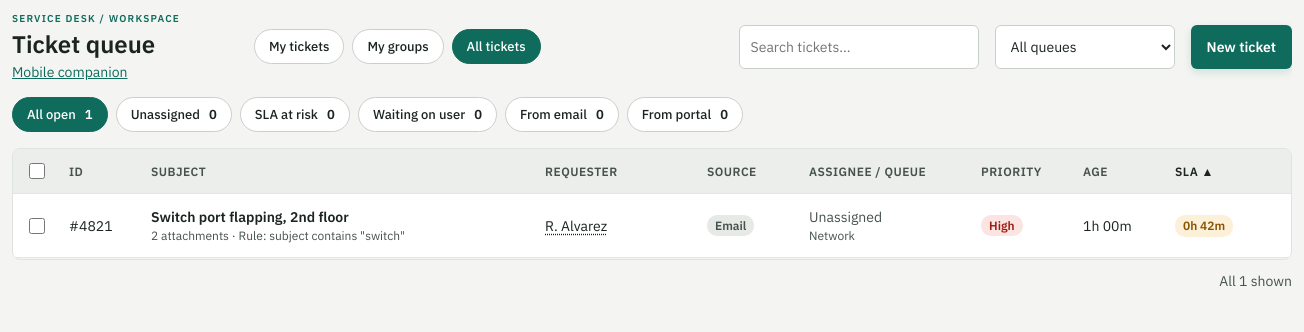
it: searching covers every status, newest first; a view or Clear ends it
Expected: the row "Switch port flapping" is shown, [13, 194, 1291, 258]
In the search field labelled "Search tickets": (859,46) [739, 24, 979, 68], type "toner"
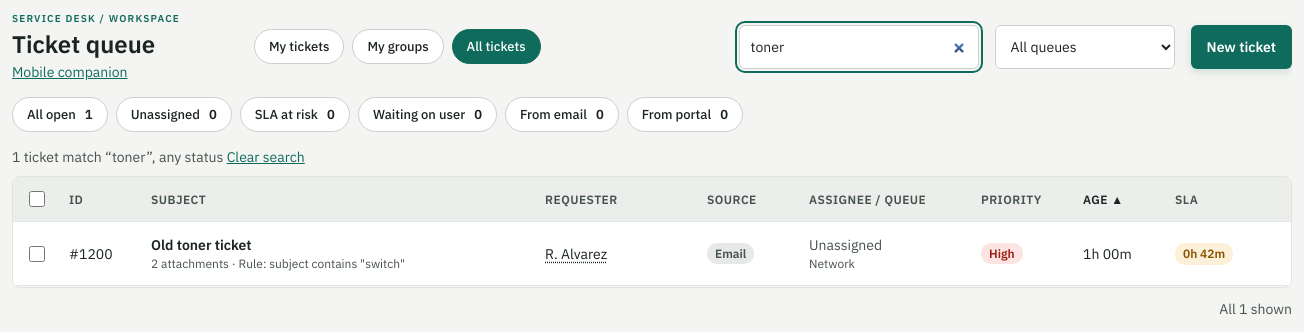
Result: the row "Old toner ticket" is shown at [13, 222, 1291, 286]
Result: the text "1 ticket match “toner”, any status Clear search" is shown at [12, 148, 305, 166]
Click the button "Clear search": (266,157) [227, 148, 305, 166]
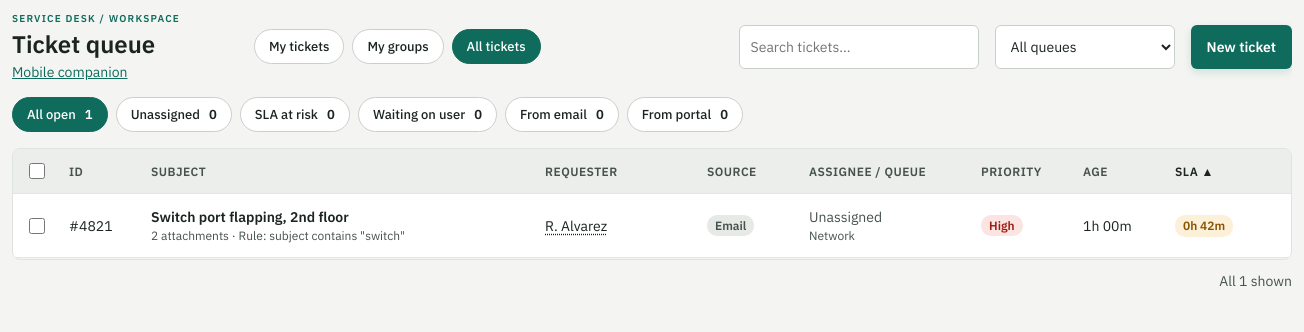
Result: the row "Switch port flapping" is shown at [13, 194, 1291, 258]
Result: the search field labelled "Search tickets" is empty at [739, 24, 979, 68]
